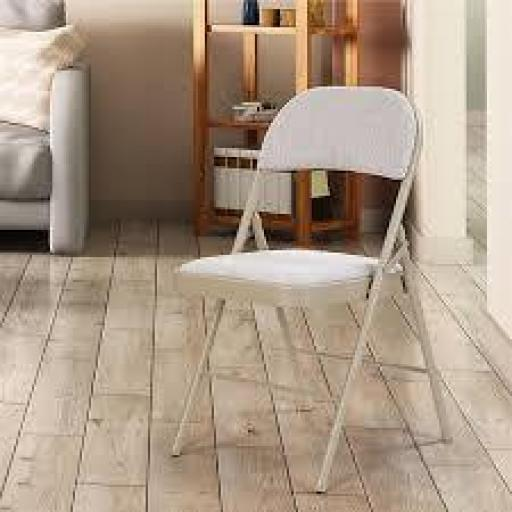chair: (164, 74, 462, 488)
